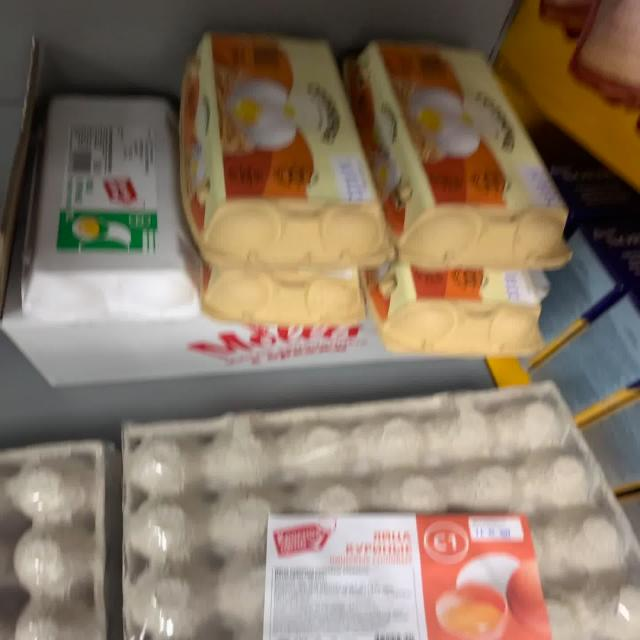egg box: (122, 384, 630, 637), (347, 29, 576, 274), (180, 29, 386, 269), (25, 80, 199, 324)
